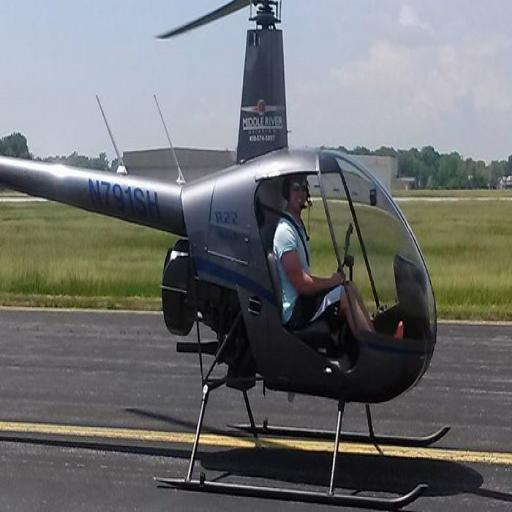helicopter: (2, 16, 454, 510)
